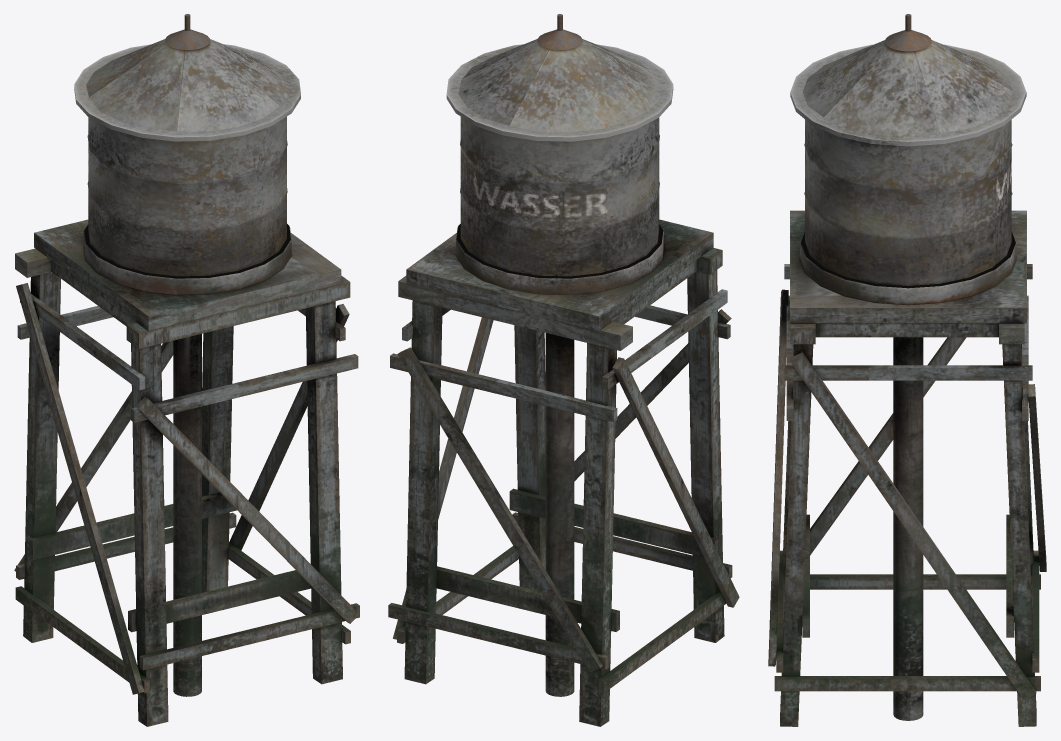
File: waterTower.obj
3 renders of one model, left to right at view 1: azimuth 30°, elevation 25°; view 2: azimuth 150°, elevation 25°; view 3: azimuth 270°, elevation 25°, orthographic. The views are drawn at different scales.
Visible parts, largest first — view 1: Water_Tower; view 2: Water_Tower; view 3: Water_Tower.
Part boxes in pixels (left/top/right/bottom): Water_Tower: left=14, top=14, right=359, bottom=726; Water_Tower: left=388, top=14, right=739, bottom=726; Water_Tower: left=768, top=14, right=1046, bottom=726.
Bounding box in the file's own units: 17.34 × 48.94 × 17.66.
1 material, 1 textured.
